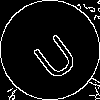U: (25, 25, 82, 83)
